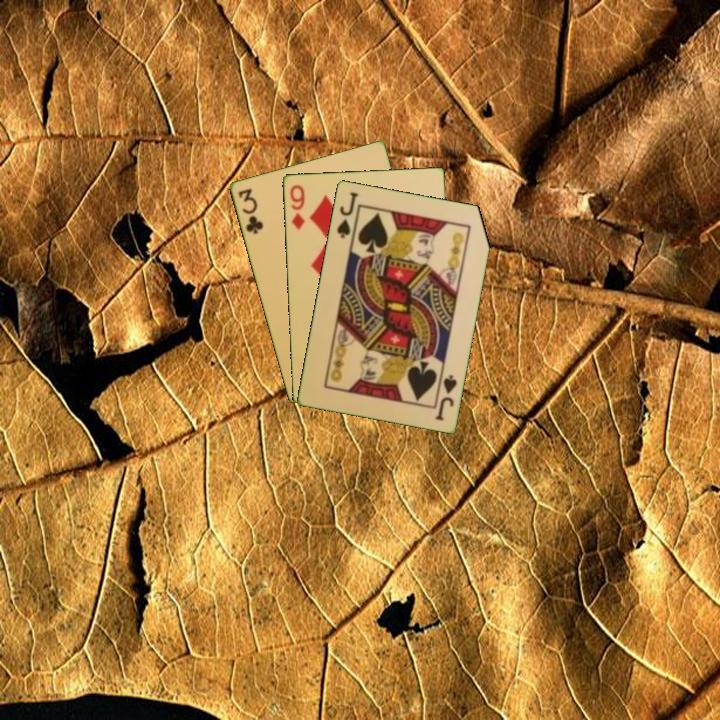3c: (234, 184, 266, 237)
9d: (286, 181, 308, 232)
Js: (431, 368, 460, 423), (333, 188, 361, 241)
